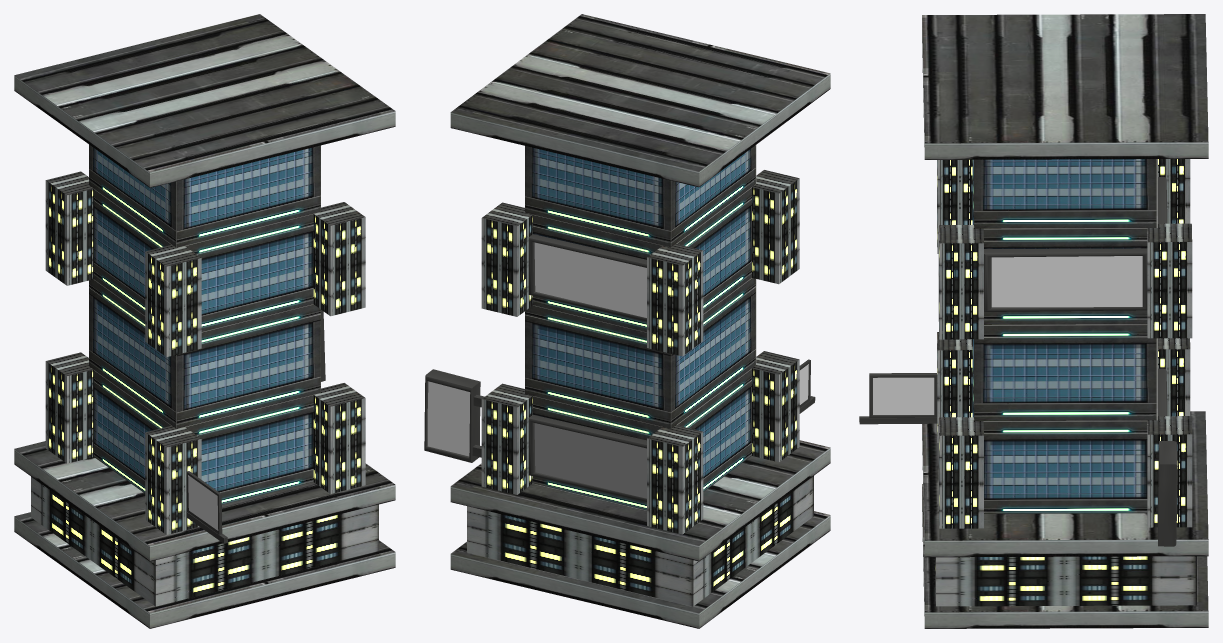
File: BLD1310003.fbx
3 renders of one model, left to right at view 1: azimuth 30°, elevation 25°; view 2: azimuth 150°, elevation 25°; view 3: azimuth 270°, elevation 25°, orthographic. The views are drawn at different scales.
Visible parts, largest first — view 1: smBLD1310003; view 2: smBLD1310003; view 3: smBLD1310003.
Boxes of the visible parts, x1=… form: smBLD1310003: x1=14, y1=14, x2=395, y2=628; smBLD1310003: x1=424, y1=14, x2=830, y2=628; smBLD1310003: x1=859, y1=14, x2=1208, y2=628.
Bounding box in the file's own units: 1079 × 1630 × 1062.
4 materials, 1 textured.
